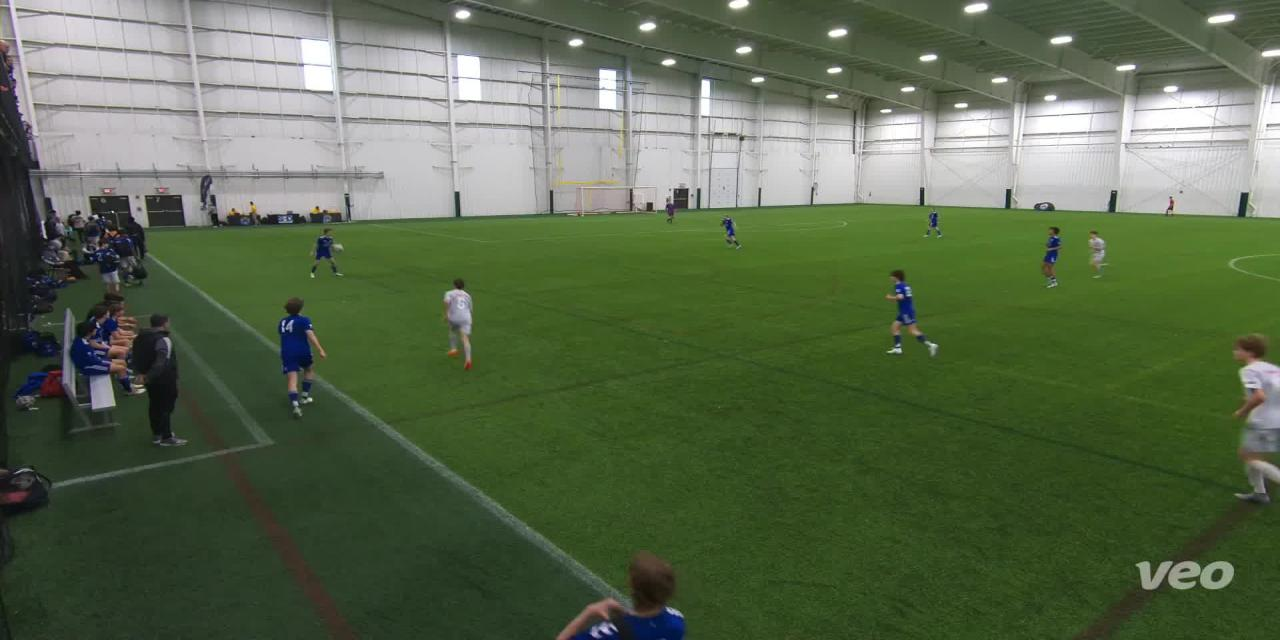goal: (562, 182, 666, 218)
sports ball: (327, 240, 348, 261)
